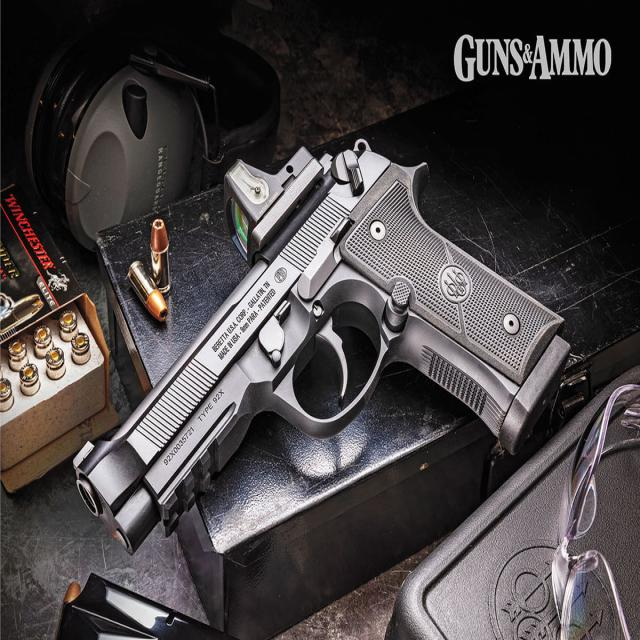Gun: (78, 135, 582, 578)
